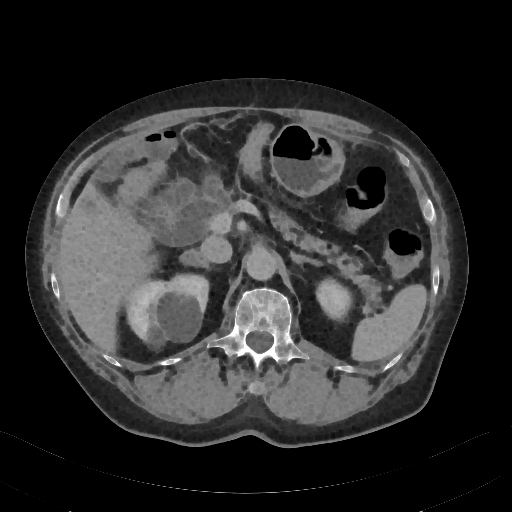Lesion: (155, 291, 204, 346)
